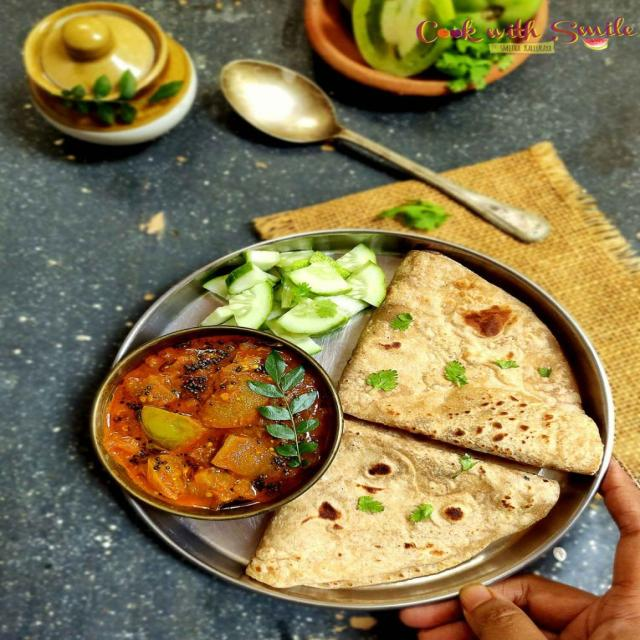chapathi: (332, 242, 631, 490), (238, 409, 580, 609)
